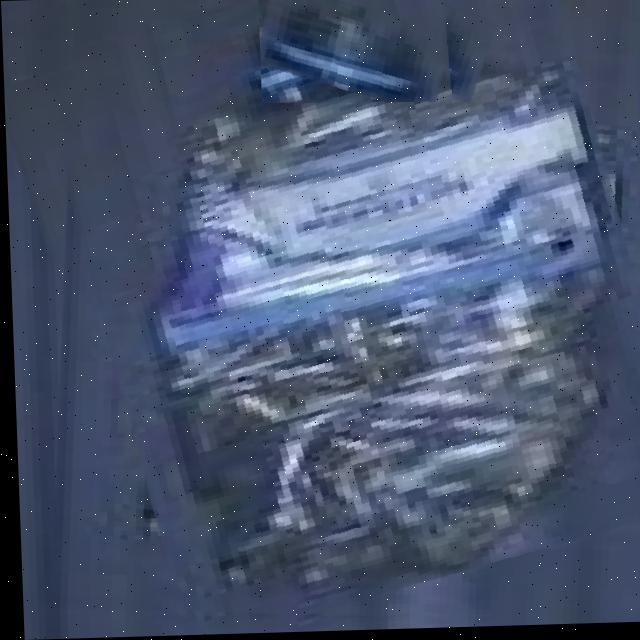plasticbottle: (28, 0, 640, 639)
plasticbottlecap: (257, 0, 450, 108)
